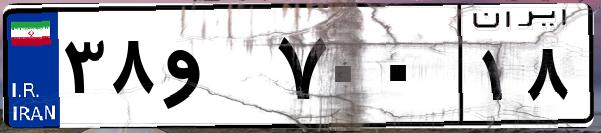0: (385, 28, 445, 110), (330, 28, 385, 110)
1: (475, 38, 525, 113)
3: (57, 26, 110, 100)
7: (270, 28, 330, 110)
8: (525, 38, 570, 115), (110, 28, 158, 98)
و: (158, 20, 270, 120)
